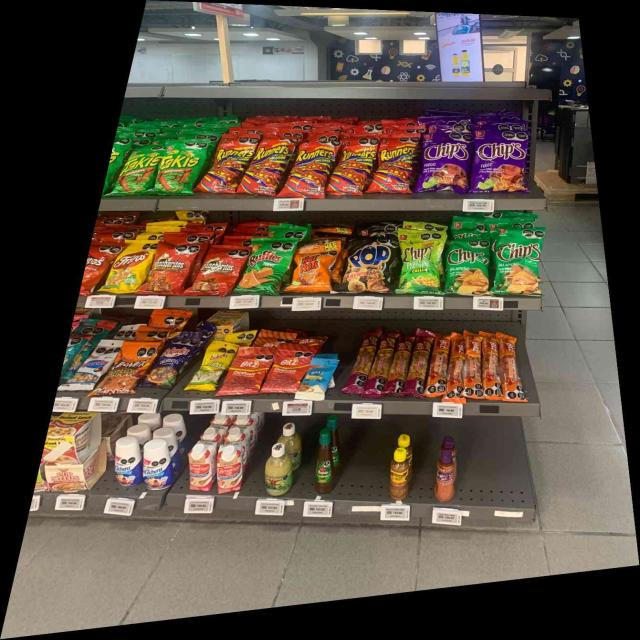bitzAlmendras: (304, 360, 328, 400)
bitzEnchilado90: (231, 346, 263, 394), (266, 347, 300, 392)
bitzEnchilado95: (430, 330, 526, 402)
bitzHabanero: (349, 329, 424, 394)
bokadosCacahuates: (154, 336, 189, 387)
botaneraChilito: (389, 449, 409, 500)
chipsFuego: (472, 127, 527, 193), (420, 133, 469, 193)
chipsJalapeno: (494, 230, 540, 294), (446, 238, 491, 296)
chipsPapatinas: (398, 228, 443, 295)
delPrimoSalsa: (264, 444, 292, 495)
doritosNacho: (85, 242, 103, 294)
fritosLimon: (110, 239, 146, 290)
hotNutsOriginal: (294, 241, 339, 292)
leoCacahuates: (75, 352, 108, 389)
leoMix: (110, 342, 150, 392)
maruchanRes: (45, 414, 91, 462)
nestleCarnation: (188, 439, 215, 491), (217, 442, 242, 494)
nestleLechera: (143, 441, 172, 488), (114, 438, 140, 486)
nissinRes: (46, 466, 88, 490)
popKarameladas: (343, 240, 396, 294)
rancheritos: (193, 246, 236, 294), (151, 240, 187, 293)
rufflesQueso: (244, 241, 286, 293)
runners: (245, 135, 288, 195), (290, 143, 332, 197), (377, 135, 415, 193), (334, 140, 374, 195), (212, 135, 242, 193)
salsaBufalo: (314, 429, 333, 492)
semillasCalabaza: (193, 344, 224, 389)
tajinDulce: (434, 450, 455, 500)
takisOriginal: (157, 140, 203, 194), (119, 146, 156, 192)
